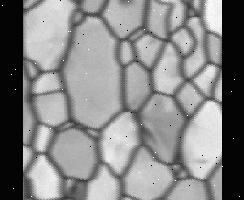good_void: (132, 120, 157, 149), (108, 0, 134, 8), (192, 155, 210, 166), (113, 142, 127, 153)
